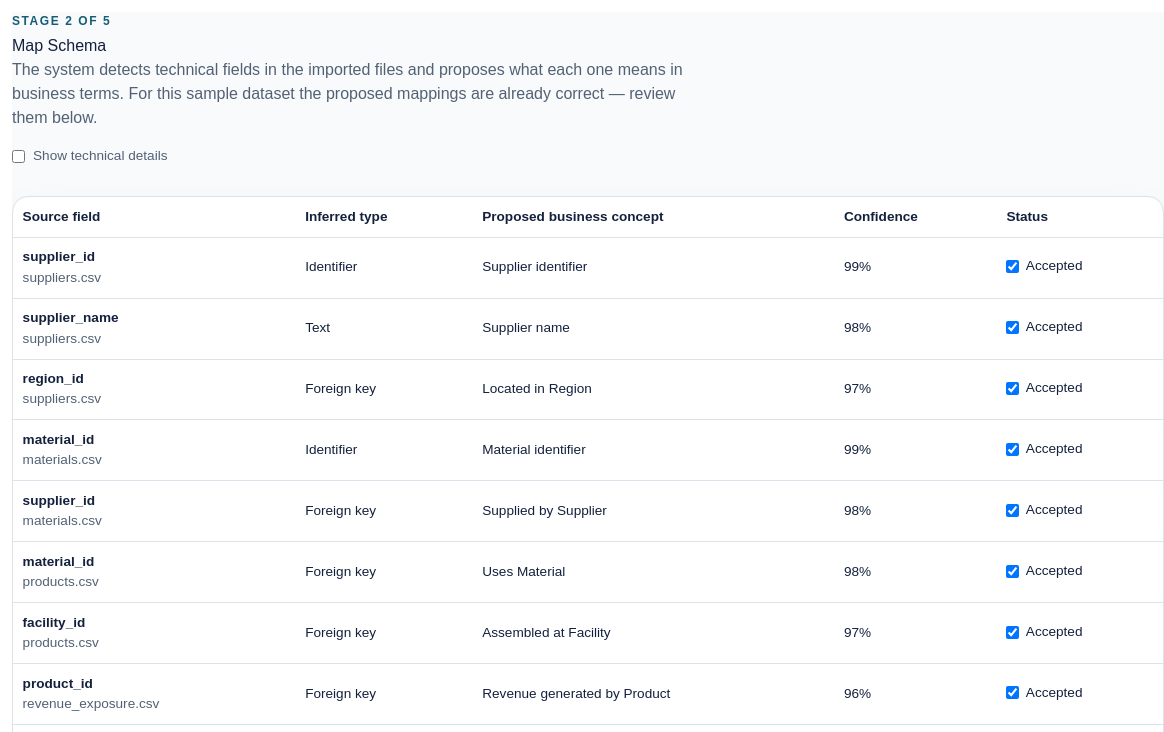
technical details are hidden until the reviewer opts in
The width and height of the screenshot is (1164, 732).
Expected: the text "Relationship: Supplier —SUPPLIES→ Material" is not shown
Click the checkbox labelled "Show technical details" at [18, 156], box [12,150,25,163]
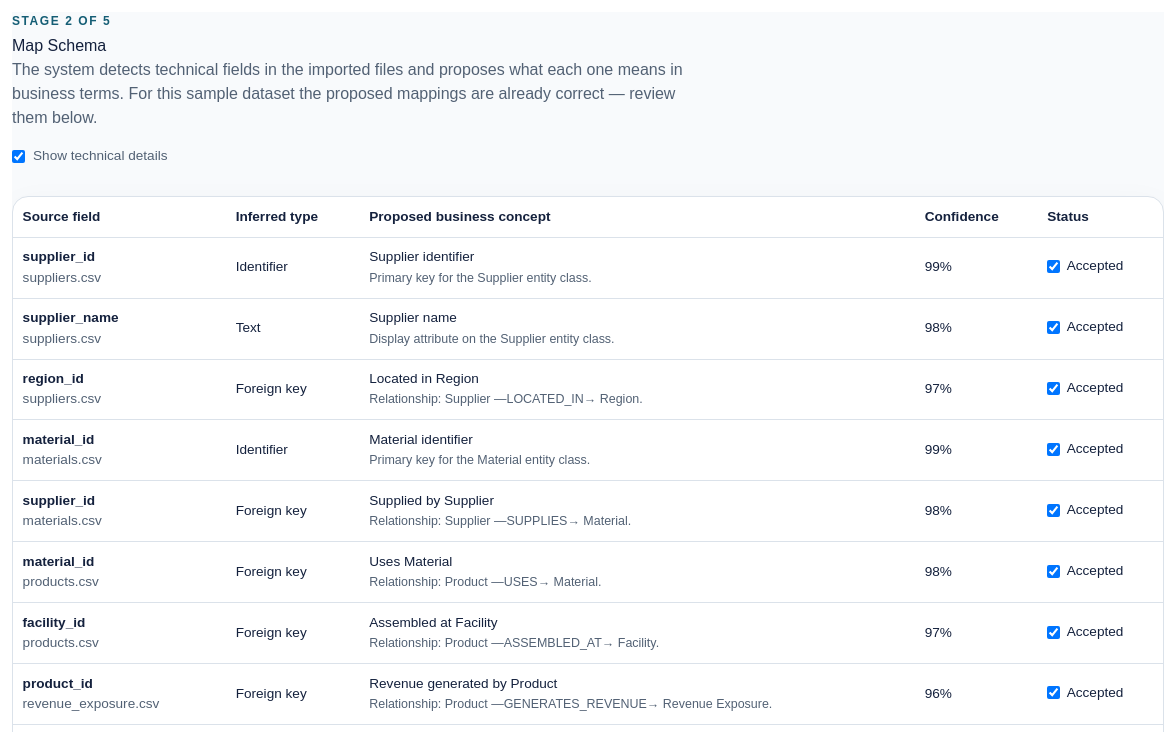
Result: the text "Relationship: Supplier —SUPPLIES→ Material." is shown at [369,514,631,528]
